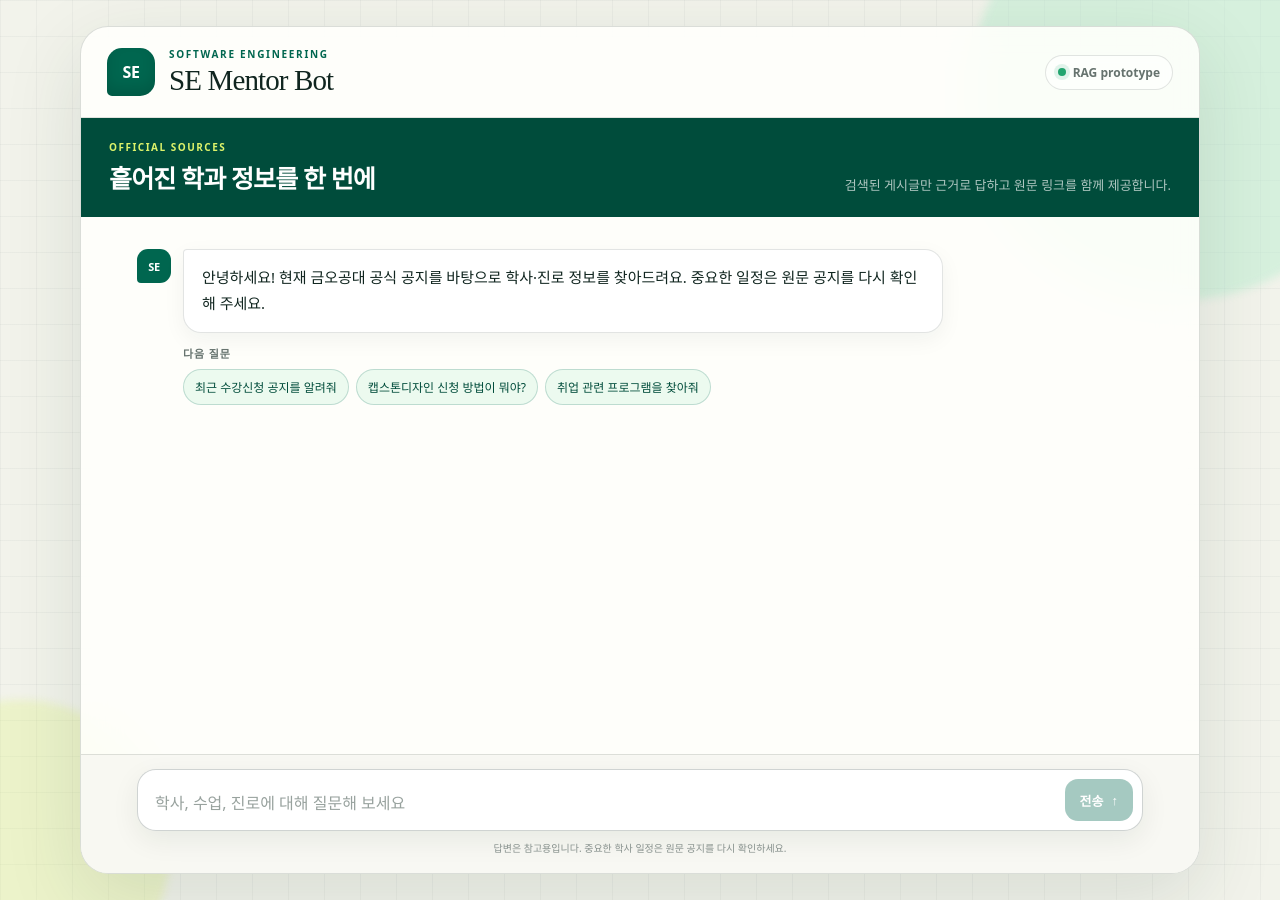
Scenario: Home › renders the answer and follow-up data returned by the chat client
The image size is (1280, 900).
Type "수강신청 방법" into the text box named "질문 입력" at x=605, y=802, box [155,783,1055,821]
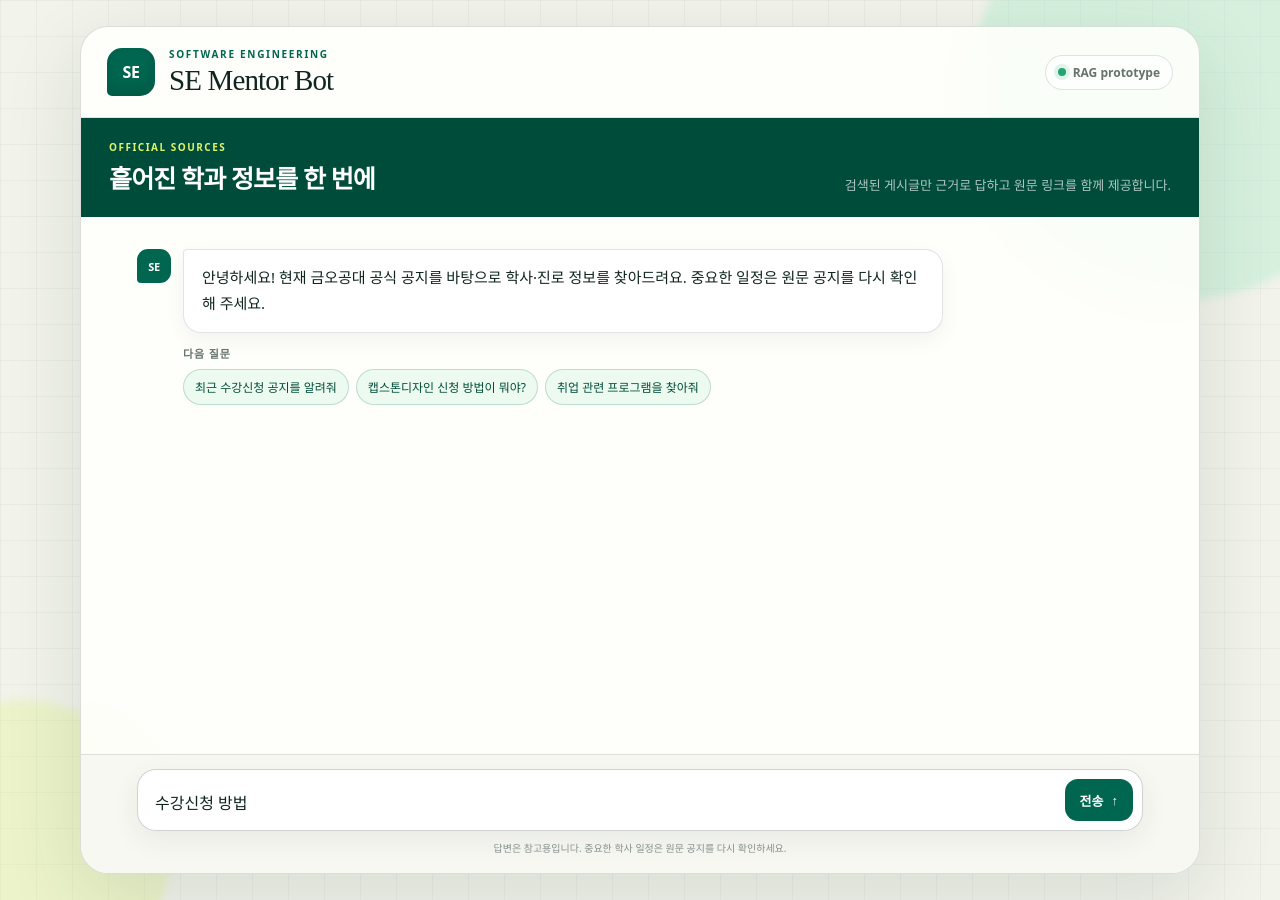
Click the button with aria-label "질문 보내기" at x=1099, y=800, box [1065,779,1133,821]
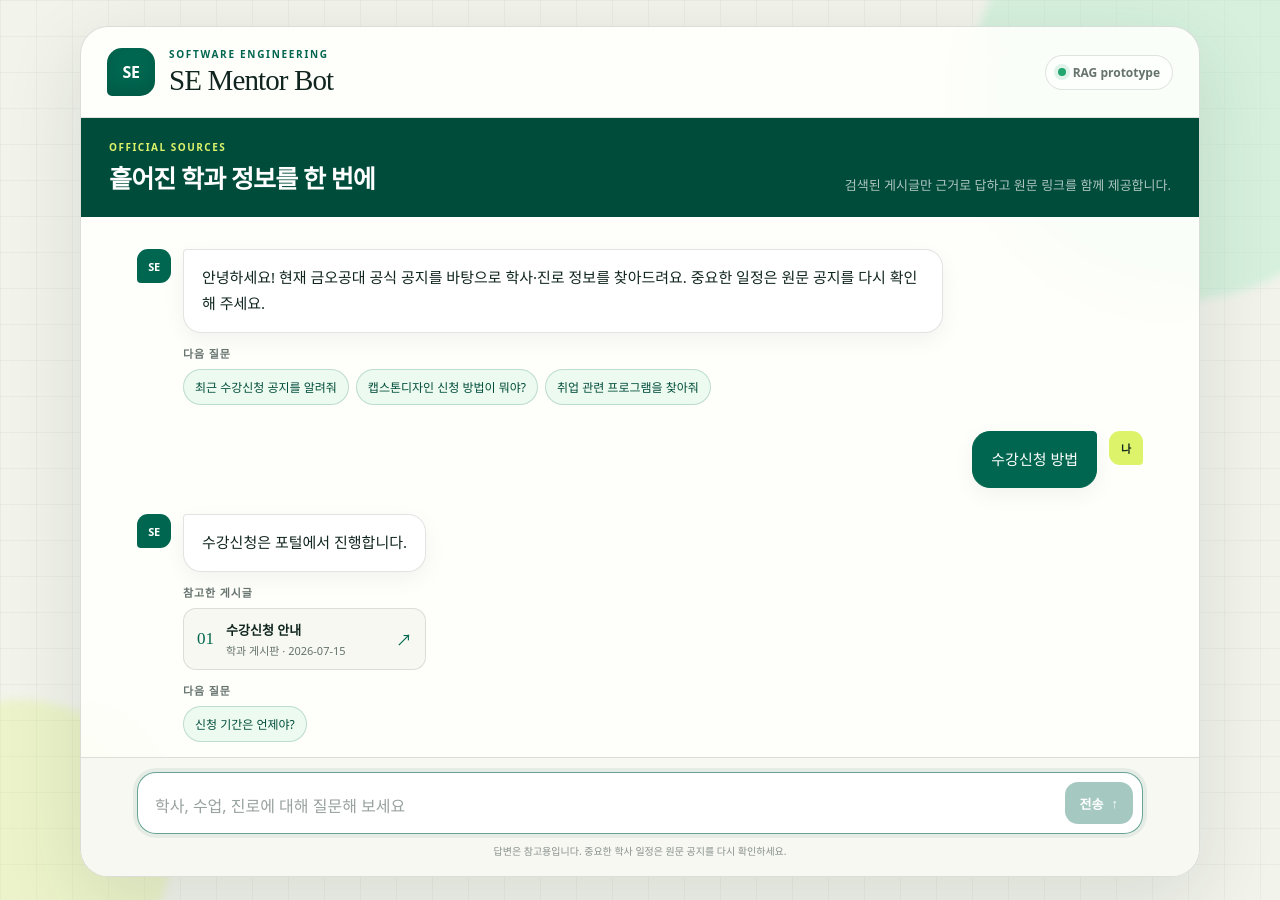
Expected: the text "수강신청은 포털에서 진행합니다." is shown, [202,530,407,556]
Expected: the button "신청 기간은 언제야?" is shown, [183,706,307,742]
